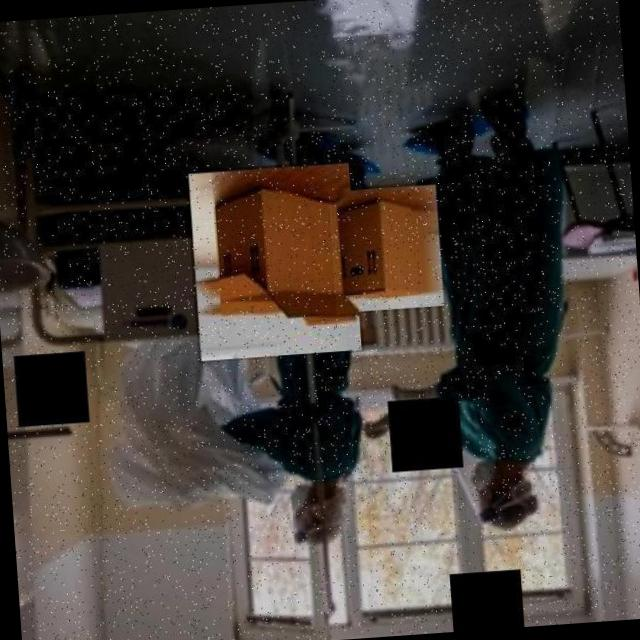box: (185, 160, 364, 362), (327, 181, 446, 314)
